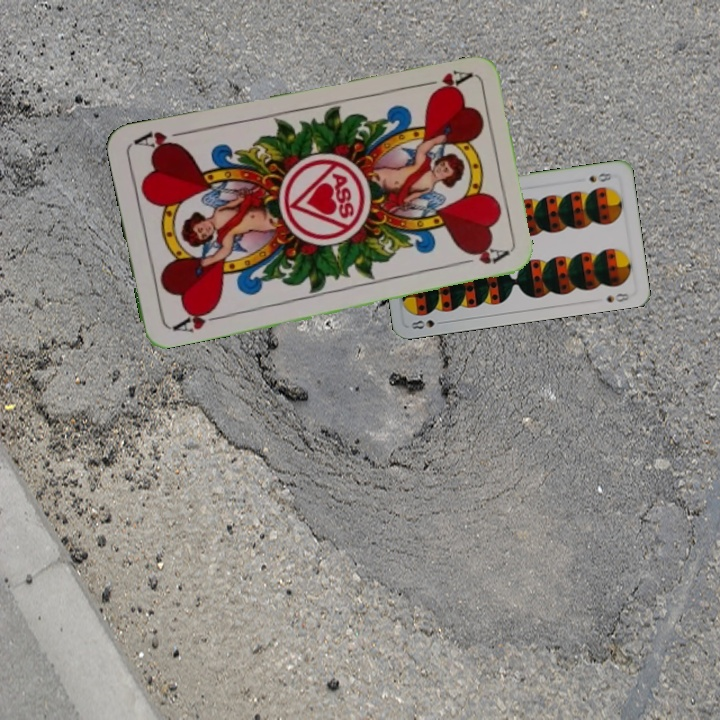HA: (414, 66, 473, 98), (168, 303, 225, 335)
S8: (407, 316, 448, 332), (585, 169, 617, 185)
